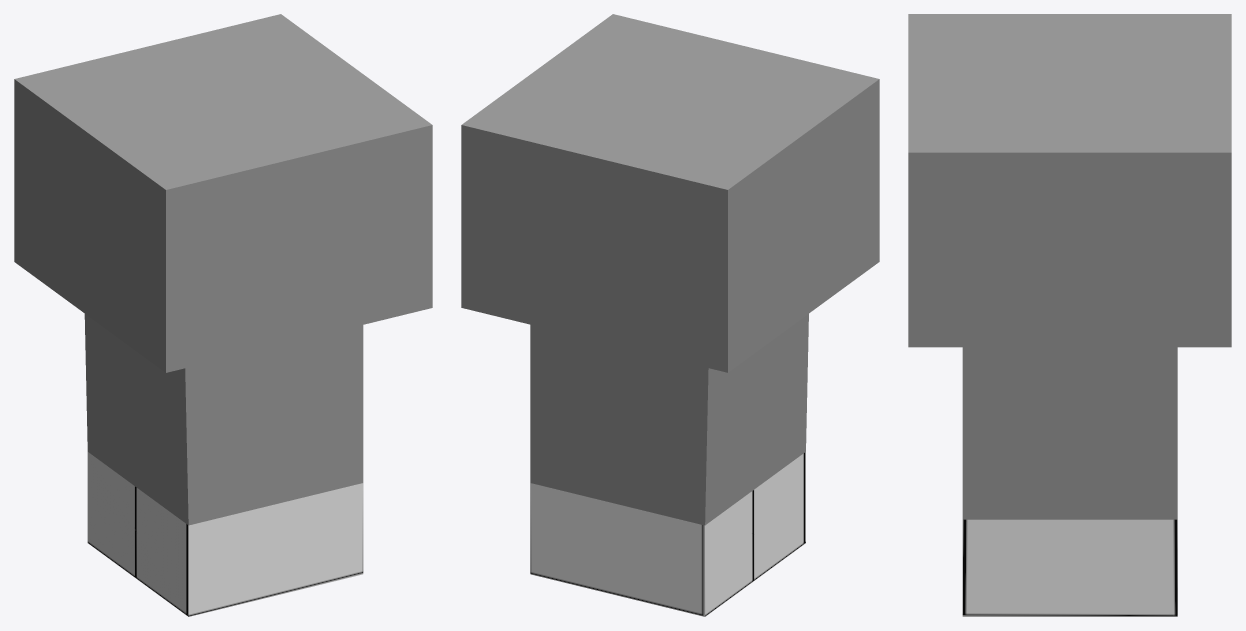
Rendered from personnage.obj.
3 views of the same model, side by side, from view 1: azimuth 30°, elevation 25°; view 2: azimuth 150°, elevation 25°; view 3: azimuth 270°, elevation 25° (orthographic). The views are drawn at different scales.
Visible parts, largest first — view 1: Cube; view 2: Cube; view 3: Cube.
Boxes of the visible parts, x1,y1,x2,y2 form: Cube: (14,14,432,616); Cube: (461,14,879,616); Cube: (908,14,1231,616).
Size of the model in its own units: 3.05 by 5 by 3.01.
